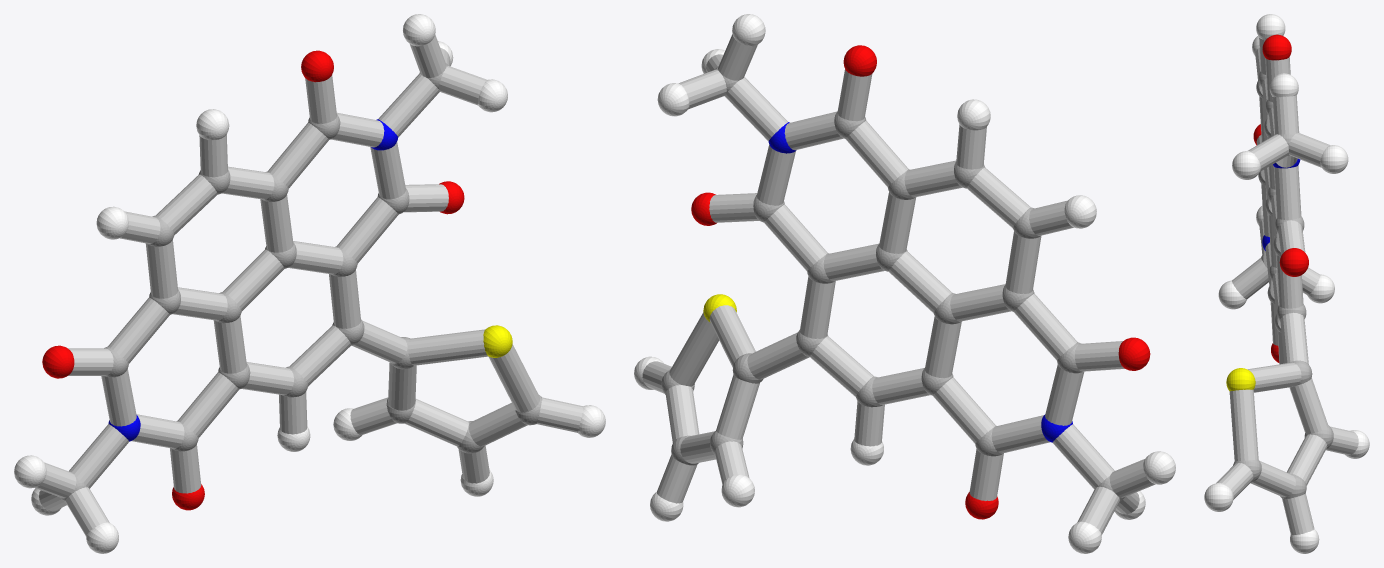
File: Dimethyl_Naphthalene_Dicarboximide_Phi_20_Theta_220_Thiophene.glb
3 views of the same model, side by side, from view 1: azimuth 30°, elevation 25°; view 2: azimuth 150°, elevation 25°; view 3: azimuth 270°, elevation 25° (orthographic). The views are drawn at different scales.
Parts seen in each view (by area): view 1: grp14119, grp7241, grp1, grp12309, grp13757, grp11585; view 2: grp14119, grp7241, grp1, grp12309, grp11585; view 3: grp14119, grp7241, grp1, grp12309, grp13757.
Part boxes in pixels (x1,y1,x2,y2): grp14119: (35, 35, 583, 536); grp7241: (14, 14, 605, 553); grp1: (60, 63, 542, 501); grp12309: (42, 50, 464, 510); grp13757: (483, 325, 512, 357); grp11585: (108, 119, 398, 441); grp14119: (642, 34, 1155, 534); grp7241: (634, 14, 1175, 553); grp1: (661, 66, 1124, 501); grp12309: (691, 45, 1150, 519); grp11585: (768, 122, 1072, 442); grp14119: (1216, 37, 1358, 535); grp7241: (1204, 14, 1369, 553); grp1: (1233, 71, 1333, 498); grp12309: (1253, 34, 1308, 362); grp13757: (1226, 368, 1255, 391).
Size of the model in its own units: 11.7 by 10.12 by 3.39.
